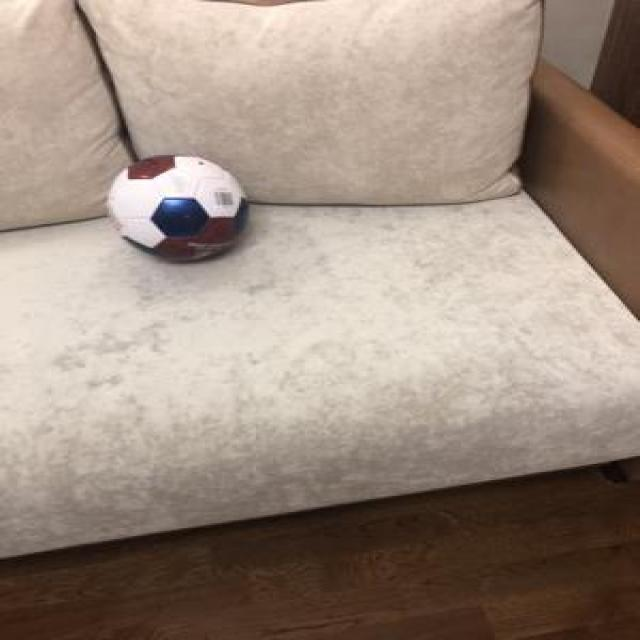Soccer Ball: (100, 150, 250, 264)
